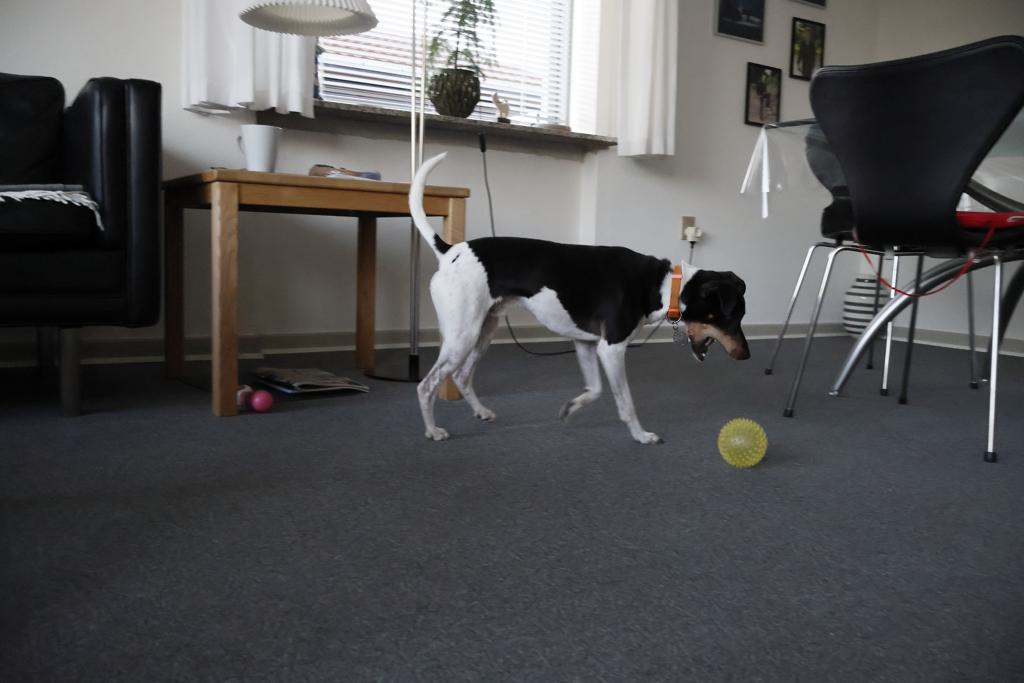Dog: (397, 137, 761, 454)
